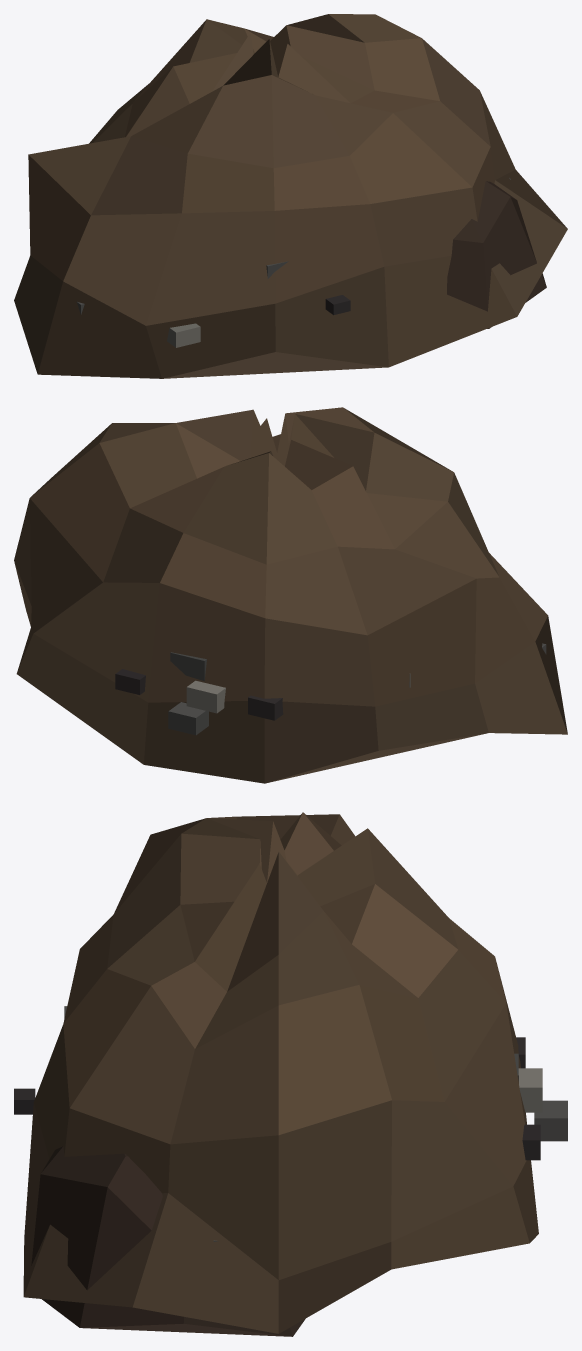
The model's file is walk_prop_spoil_heap.glb.
3 views of the same model, one above another, from view 1: azimuth 30°, elevation 25°; view 2: azimuth 150°, elevation 25°; view 3: azimuth 270°, elevation 25° (orthographic). The views are drawn at different scales.
Visible parts, largest first — view 1: walk_prop_spoil_heap; view 2: walk_prop_spoil_heap; view 3: walk_prop_spoil_heap.
Boxes of the visible parts, x1,y1,x2,y2 form: walk_prop_spoil_heap: [14, 14, 567, 378]; walk_prop_spoil_heap: [14, 407, 567, 783]; walk_prop_spoil_heap: [14, 812, 567, 1336].
Size of what is drawn, in the model's own units: 8.43 by 4.48 by 5.84.
1 material, 1 textured.
